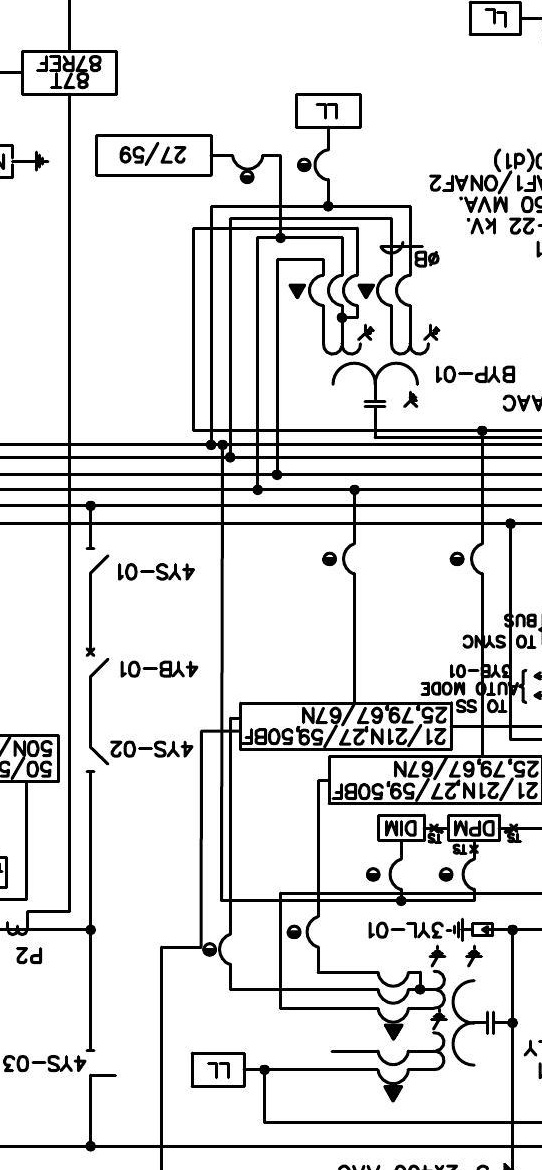115_breaker: (85, 647, 110, 678)
115_cvt_1p: (376, 943, 495, 1104)
115_cvt_3p: (321, 323, 441, 408)
115_ds: (85, 1048, 118, 1078), (84, 547, 110, 575), (85, 747, 110, 773)
115_la: (445, 917, 494, 943)
DIM: (376, 814, 426, 843)
DPM: (446, 814, 501, 843)
LL: (295, 93, 362, 129), (191, 1052, 246, 1088), (469, 0, 522, 36)
